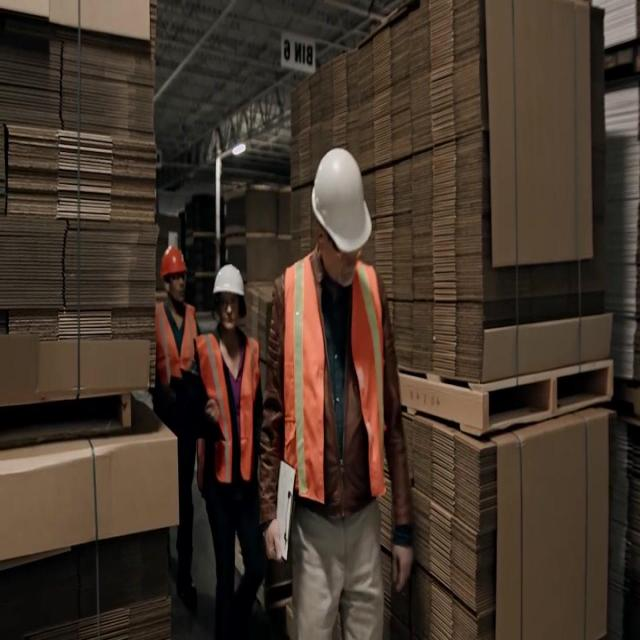Reflective-Jacket: (266, 255, 398, 533), (191, 326, 267, 516), (154, 296, 202, 411)
Safety-Helmet: (306, 136, 376, 262), (209, 255, 251, 311), (156, 239, 190, 282)
